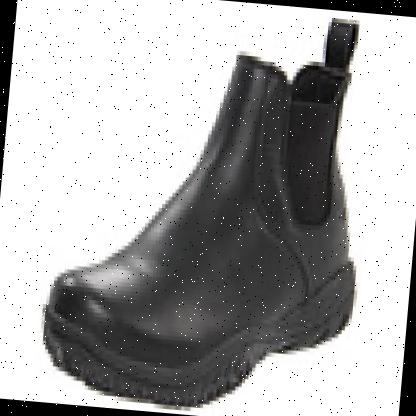bota: (30, 23, 380, 416)
